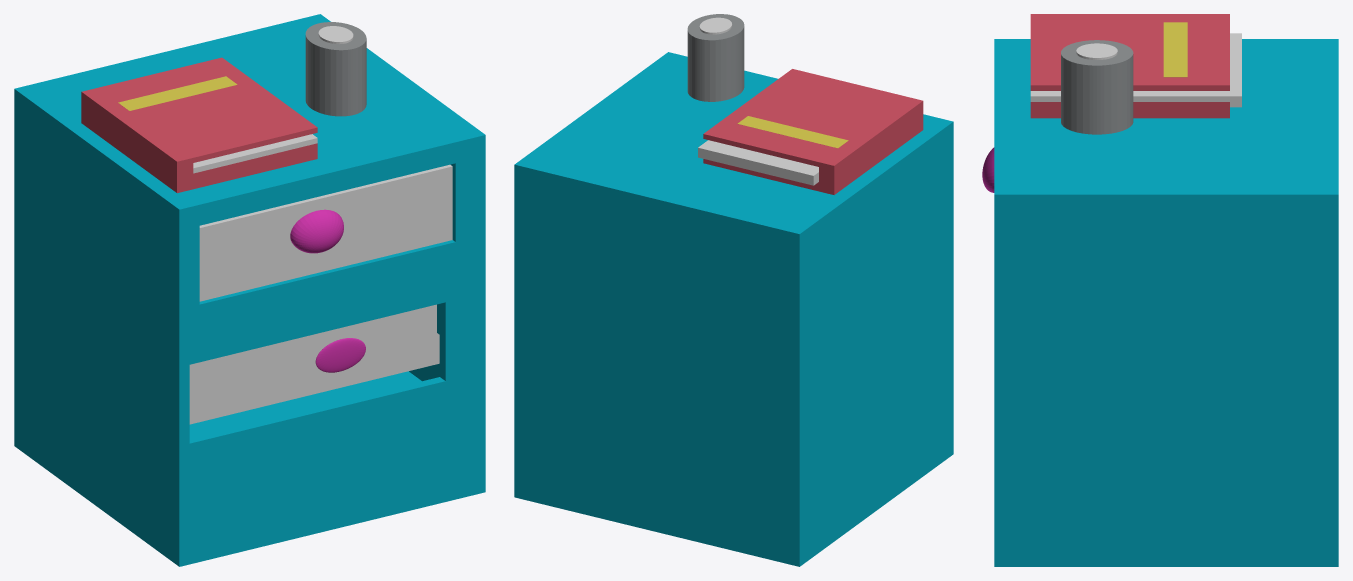
The model's file is Tremendous Kasi.glb.
3 renders of one model, left to right at view 1: azimuth 30°, elevation 25°; view 2: azimuth 150°, elevation 25°; view 3: azimuth 270°, elevation 25°, orthographic. The views are drawn at different scales.
Visible parts, largest first — view 1: Mesh_Mesh_head_geo.001_lambert2SG.001; view 2: Mesh_Mesh_head_geo.001_lambert2SG.001; view 3: Mesh_Mesh_head_geo.001_lambert2SG.001.
Part boxes in pixels (x1=…): Mesh_Mesh_head_geo.001_lambert2SG.001: x1=14, y1=14, x2=485, y2=566; Mesh_Mesh_head_geo.001_lambert2SG.001: x1=514, y1=14, x2=953, y2=566; Mesh_Mesh_head_geo.001_lambert2SG.001: x1=982, y1=14, x2=1338, y2=566.
Bounding box in the file's own units: 61 × 85 × 59.
